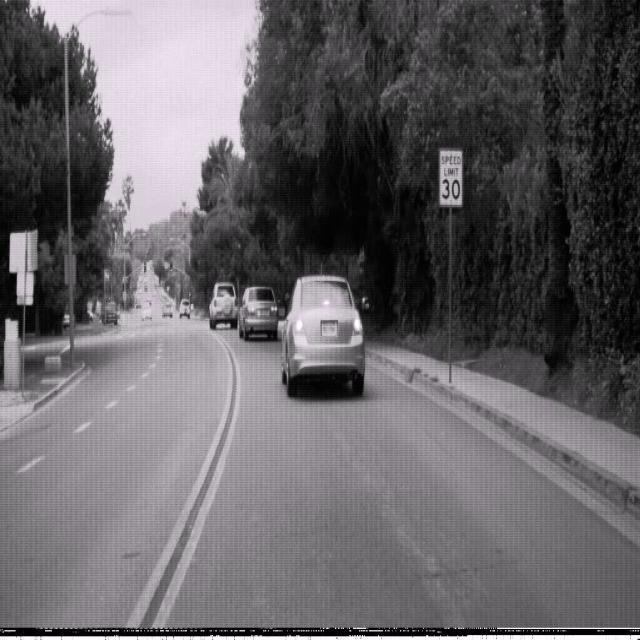speedLimit30: (438, 147, 462, 207)
